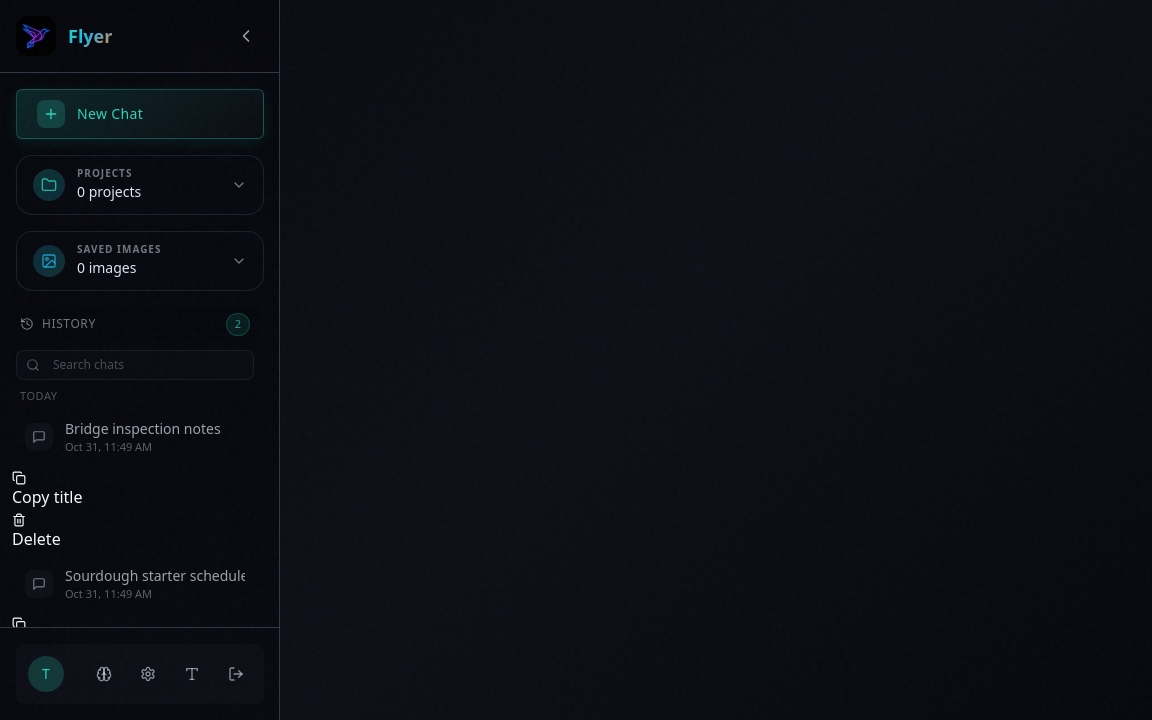
Scenario: sidebar body search wiring › falls back to title-only matching when no fetch is supplied
The image size is (1152, 720).
Type "bridge" into the search field with placeholder "Search chats" at (135, 364), box [16,350,254,380]
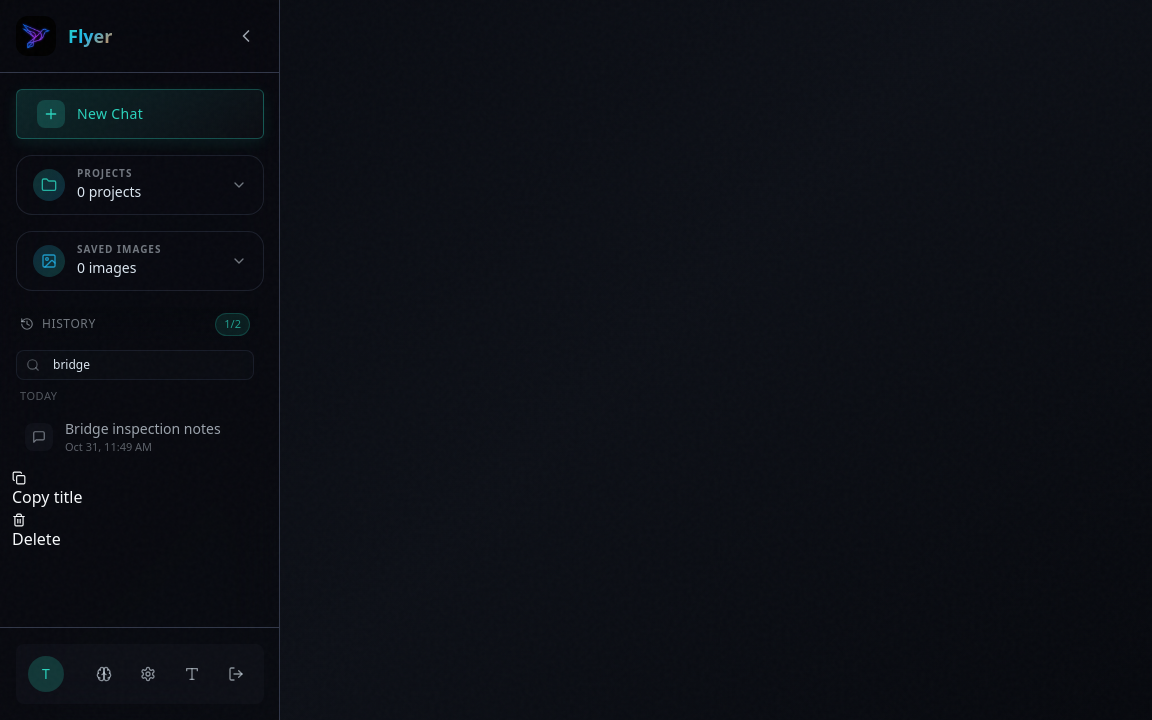
Expected: the text "Bridge inspection notes" is shown, [65,419,245,439]
Result: the button "Sourdough starter schedule" is gone
